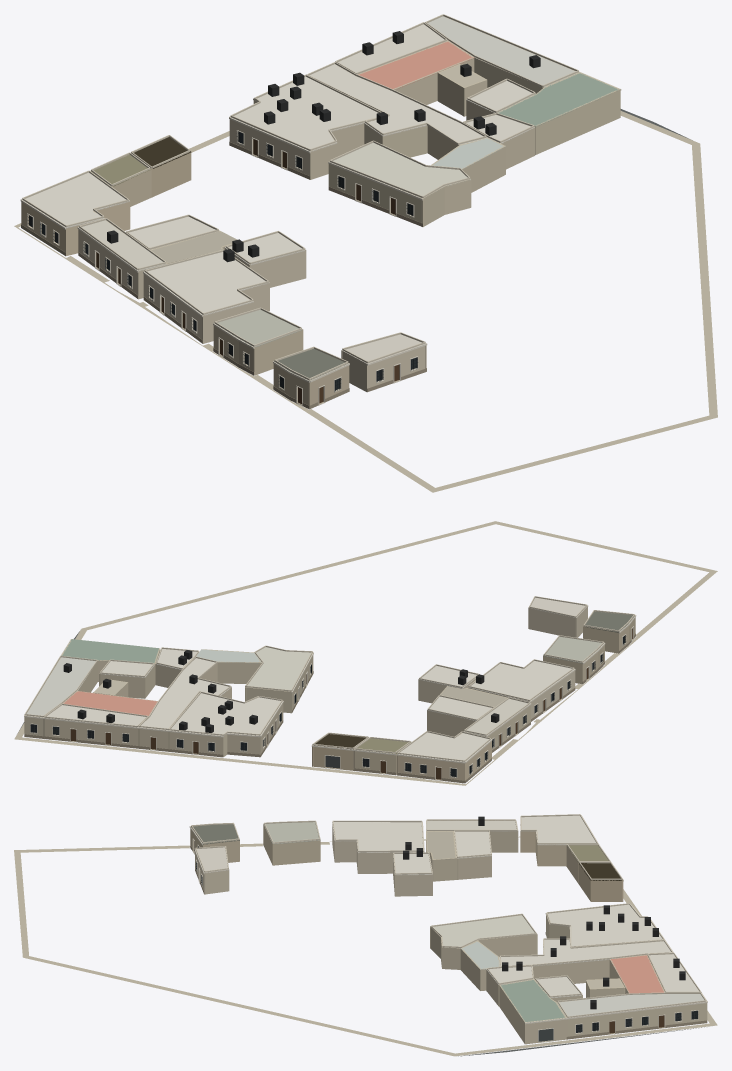
3 renders of one model, top to bottom at view 1: azimuth 30°, elevation 25°; view 2: azimuth 150°, elevation 25°; view 3: azimuth 270°, elevation 25°, orthographic. The views are drawn at different scales.
Parts seen in each view (by area): view 1: edificio; view 2: edificio; view 3: edificio.
Boxes of the visible parts, x1=… form: edificio: x1=14, y1=14, x2=717, y2=492; edificio: x1=14, y1=521, x2=717, y2=785; edificio: x1=14, y1=814, x2=717, y2=1056.
Bounding box in the file's own units: 87.79 × 5.22 × 118.
